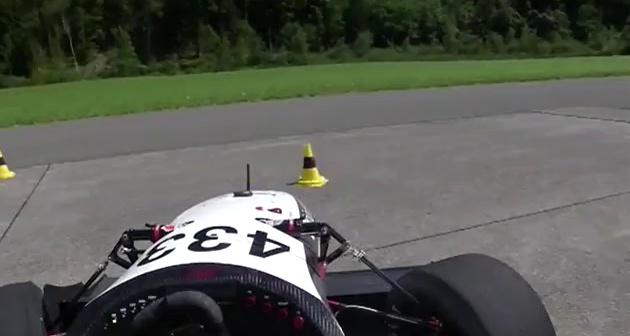Cone: (293, 140, 332, 190)
